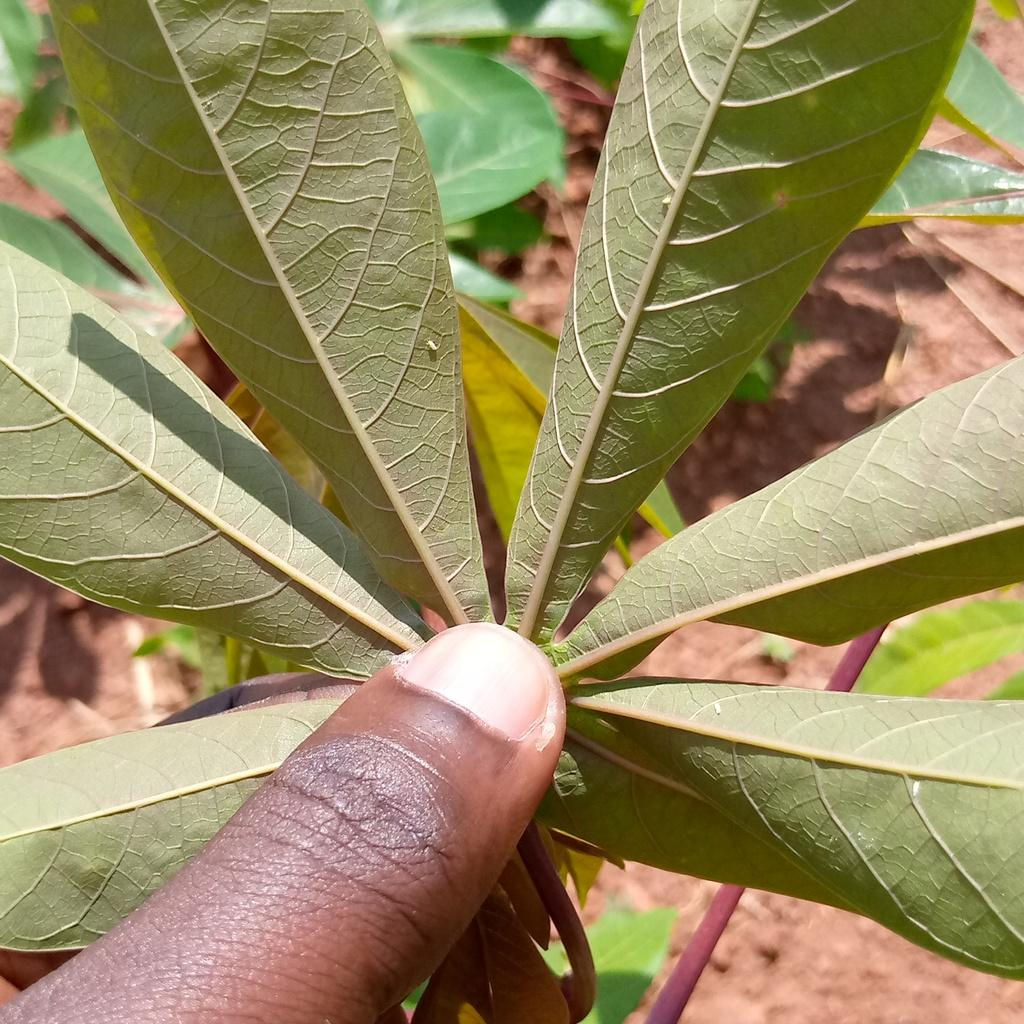adult: (427, 340, 438, 351), (713, 702, 722, 715), (662, 195, 672, 205), (913, 780, 919, 796)
